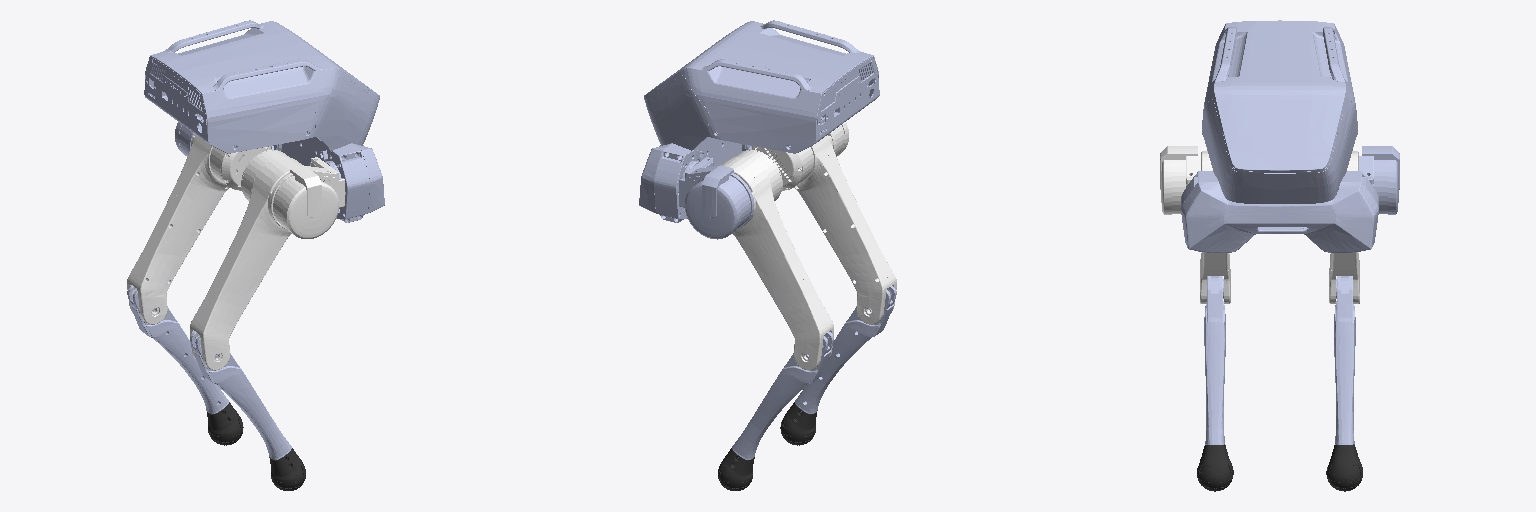
The robot description file, URDF, robot "PF_P441A":
<?xml version="1.0" encoding="utf-8"?>
<robot name="PF_P441A">
    <material name="black">
        <color rgba="0.0 0.0 0.0 1.0"/>
    </material>
    <material name="blue">
        <color rgba="0.0 0.0 0.8 1.0"/>
    </material>
    <material name="green">
        <color rgba="0.0 0.8 0.0 1.0"/>
    </material>
    <material name="grey">
        <color rgba="0.2 0.2 0.2 1.0"/>
    </material>
    <material name="silver">
        <color rgba="0.9137254901960784 0.9137254901960784 0.8470588235294118 1.0"/>
    </material>
    <material name="orange">
        <color rgba="1.0 0.4235294117647059 0.0392156862745098 1.0"/>
    </material>
    <material name="brown">
        <color rgba="0.8705882352941177 0.8117647058823529 0.7647058823529411 1.0"/>
    </material>
    <material name="red">
        <color rgba="0.8 0.0 0.0 1.0"/>
    </material>
    <material name="white">
        <color rgba="1.0 1.0 1.0 1.0"/>
    </material>
    <!-- ros_control plugin -->
    <gazebo>
        <plugin filename="libpointfoot_hw_sim.so" name="gazebo_ros_control">
            <robotNamespace>/</robotNamespace>
            <robotParam>robot_description</robotParam>
            <robotSimType>pointfoot_gazebo/PointFootHWSim</robotSimType>
        </plugin>
    </gazebo>
    <gazebo>
        <plugin filename="libgazebo_ros_p3d.so" name="p3d_base_controller">
            <alwaysOn>true</alwaysOn>
            <updateRate>1000.0</updateRate>
            <bodyName>base_Link</bodyName>
            <topicName>ground_truth/state</topicName>
            <gaussianNoise>0</gaussianNoise>
            <frameName>world</frameName>
            <xyzOffsets>0 0 0</xyzOffsets>
            <rpyOffsets>0 0 0</rpyOffsets>
        </plugin>
    </gazebo>
    <link
            name="base_Link">
        <inertial>
            <origin rpy="0 0 0" xyz="-0.011761 0.000977 -0.015342"/>
            <mass value="8.557"/>
            <inertia ixx="0.119293" ixy="0.000807" ixz="0.040299"
                     iyy="0.125912" iyz="-0.000664" izz="0.126021"/>
        </inertial>
        <visual>
            <origin
                    xyz="0 0 0"
                    rpy="0 0 0"/>
            <geometry>
                <mesh
                        filename="../meshes/base_Link.STL"/>
            </geometry>
            <material
                    name="">
                <color
                        rgba="0.79216 0.81961 0.93333 1"/>
            </material>
        </visual>
        <collision>
            <origin xyz="-0.04 0 0.06969" rpy="0 0 0"/>
            <geometry>
                <box size="0.37 0.26 0.14"/>
            </geometry>
        </collision>
    </link>
    <joint name="limx_imu_joint" type="fixed">
        <origin rpy="0. 0. 0." xyz="0. 0. 0."/>
        <parent link="base_Link"/>
        <child link="limx_imu"/>
    </joint>
    <!-- Imu link -->
    <link name="limx_imu">
        <inertial>
            <mass value="0.01"/>
            <origin rpy="0 0 0" xyz="0 0 0"/>
            <inertia ixx="0.000001" ixy="0" ixz="0" iyy="0.000001" iyz="0" izz="0.000001"/>
        </inertial>
        <visual>
            <origin rpy="0 0 0" xyz="0 0 0"/>
            <geometry>
                <box size="0.015 0.015 0.004"/>
            </geometry>
        </visual>
        <material name="orange">
            <color rgba="255 108 10 255"/>
        </material>
    </link>
    <gazebo reference="limx_imu">
        <material>Gazebo/Orange</material>
    </gazebo>
    <gazebo reference="limx_imu_joint">
        <disableFixedJointLumping>true</disableFixedJointLumping>
    </gazebo>
    <link
            name="abad_L_Link">
        <inertial>
            <origin rpy="0 0 0" xyz="-0.067632 0.045448 0.000968"/>
            <mass value="1.614"/>
            <inertia ixx="0.001794" ixy="0.000451" ixz="-0.000013"
                     iyy="0.002726" iyz="-0.000018" izz="0.002429"/>
        </inertial>
        <visual>
            <origin
                    xyz="0 0 0"
                    rpy="0 0 0"/>
            <geometry>
                <mesh
                        filename="../meshes/abad_L_Link.STL"/>
            </geometry>
            <material
                    name="">
                <color
                        rgba="0.79216 0.81961 0.93333 1"/>
            </material>
        </visual>
        <collision>
            <origin xyz="-0.08 0 0" rpy="1.57 0 0"/>
            <geometry>
                <cylinder length="0.05" radius="0.05"/>
            </geometry>
        </collision>
    </link>
    <joint
            name="abad_L_Joint"
            type="revolute">
        <origin
                xyz="0.01241 0.10494 -0.09876"
                rpy="0 0 0"/>
        <parent
                link="base_Link"/>
        <child
                link="abad_L_Link"/>
        <axis
                xyz="1 0 0"/>
        <limit effort="80.0" lower="-0.38397" upper="1.39626" velocity="20.0"/>
    </joint>
    <link
            name="hip_L_Link">
        <inertial>
            <origin rpy="0 0 0" xyz="-0.030719 -0.045451 -0.043281"/>
            <mass value="2.435"/>
            <inertia ixx="0.019181" ixy="0.001896" ixz="-0.010456"
                     iyy="0.025710" iyz="0.002668" izz="0.010329"/>
        </inertial>
        <visual>
            <origin
                    xyz="0 0 0"
                    rpy="0 0 0"/>
            <geometry>
                <mesh
                        filename="../meshes/hip_L_Link.STL"/>
            </geometry>
            <material
                    name="">
                <color
                        rgba="1 1 1 1"/>
            </material>
        </visual>
        <collision>
            <origin xyz="-0.10 -0.03 -0.14" rpy="0 0.53 0"/>
            <geometry>
                <cylinder length="0.15" radius="0.035"/>
            </geometry>
        </collision>
    </link>
    <joint
            name="hip_L_Joint"
            type="revolute">
        <origin
                xyz="-0.07696 0.02066 0"
                rpy="0 0 0"/>
        <parent
                link="abad_L_Link"/>
        <child
                link="hip_L_Link"/>
        <axis
                xyz="0 1 0"/>
        <limit effort="80.0" lower="-1.012291" upper="1.518436" velocity="20.0"/>
    </joint>
    <link
            name="knee_L_Link">
        <inertial>
            <origin rpy="0 0 0" xyz="0.048005 -0.000016 -0.076168"/>
            <mass value="0.573"/>
            <inertia ixx="0.003310" ixy="-0.000001" ixz="0.002067"
                     iyy="0.004693" iyz="0.000001" izz="0.001484"/>
        </inertial>
        <visual>
            <origin
                    xyz="0 0 0"
                    rpy="0 0 0"/>
            <geometry>
                <mesh
                        filename="../meshes/knee_L_Link.STL"/>
            </geometry>
            <material
                    name="">
                <color
                        rgba="0.79216 0.81961 0.93333 1"/>
            </material>
        </visual>
        <collision>
            <origin xyz="0.078 0 -0.12" rpy="0 -0.55 0"/>
            <geometry>
                <cylinder length="0.26" radius="0.015"/>
            </geometry>
        </collision>
    </link>
    <joint
            name="knee_L_Joint"
            type="revolute">
        <origin
                xyz="-0.15004 -0.02018 -0.25981"
                rpy="0 0 0"/>
        <parent
                link="hip_L_Link"/>
        <child
                link="knee_L_Link"/>
        <axis
                xyz="0 -1 0"/>
        <limit effort="80" lower="-0.872665" upper="1.396263" velocity="20"/>
    </joint>
    <link
            name="foot_L_Link">
        <inertial>
            <origin rpy="0 0 0" xyz="-0.001786 0.000059 0.007911"/>
            <mass value="0.157"/>
            <inertia ixx="0.000081" ixy="0" ixz="0.000006"
                     iyy="0.000083" iyz="0" izz="0.000061"/>
        </inertial>
        <visual>
            <origin
                    xyz="0 0 0"
                    rpy="0 0 0"/>
            <geometry>
                <mesh
                        filename="../meshes/foot_L_Link.STL"/>
            </geometry>
            <material
                    name="">
                <color
                        rgba="0.26667 0.26667 0.26667 1"/>
            </material>
        </visual>
        <collision>
            <origin rpy="0 0 0" xyz="0 0 -0.0"/>
            <geometry>
                <sphere radius="0.03"/>
            </geometry>
        </collision>
    </link>
    <joint
            name="foot_L_Joint"
            type="fixed"
            dont_collapse="true">
        <origin
                xyz="0.15 0 -0.25981"
                rpy="0 0 0"/>
        <parent
                link="knee_L_Link"/>
        <child
                link="foot_L_Link"/>
        <axis
                xyz="0 0 0"/>
    </joint>

    <link name="contact_L_Link">
        <inertial>
            <origin xyz="-6.4629E-05 5.464E-05 0.0011936" rpy="0 0 0"/>
            <mass value="1e-6"/>
            <inertia ixx="1e-12" ixy="0" ixz="0" iyy="1e-12" iyz="0" izz="1e-12"/>
        </inertial>
    </link>
    <joint name="contact_L_Joint" type="fixed">
        <origin xyz="0 0 -0.03" rpy="0 0 0"/>
        <parent link="foot_L_Link"/>
        <child link="contact_L_Link"/>
        <axis xyz="0 1 0"/>
        <limit lower="-0" upper="0" effort="60" velocity="50"/>
    </joint>
    <gazebo reference="foot_L_Joint">
        <disableFixedJointLumping>true</disableFixedJointLumping>
    </gazebo>
    <gazebo reference="hip_L_Link">
        <mu1>0.2</mu1>
        <mu2>0.2</mu2>
        <material>Gazebo/DarkGrey</material>
    </gazebo>
    <gazebo reference="knee_L_Link">
        <mu1>0.2</mu1>
        <mu2>0.2</mu2>
        <self_collide>0</self_collide>
        <material>Gazebo/DarkGrey</material>
        <kp value="1000000.0"/>
        <kd value="100.0"/>
    </gazebo>
    <gazebo reference="foot_L_Link">
        <mu1>2.0</mu1>
        <mu2>2.0</mu2>
        <self_collide>1</self_collide>
        <material>Gazebo/DarkGrey</material>
        <kp value="1000000.0"/>
        <kd value="100.0"/>
    </gazebo>
    <transmission name="abad_L_Joint_tran">
        <type>transmission_interface/SimpleTransmission</type>
        <joint name="abad_L_Joint">
            <hardwareInterface>hardware_interface/EffortJointInterface</hardwareInterface>
        </joint>
        <actuator name="abad_L_Joint_motor">
            <hardwareInterface>hardware_interface/EffortJointInterface</hardwareInterface>
            <mechanicalReduction>1</mechanicalReduction>
        </actuator>
    </transmission>
    <transmission name="hip_L_Joint_tran">
        <type>transmission_interface/SimpleTransmission</type>
        <joint name="hip_L_Joint">
            <hardwareInterface>hardware_interface/EffortJointInterface</hardwareInterface>
        </joint>
        <actuator name="hip_L_Joint_motor">
            <hardwareInterface>hardware_interface/EffortJointInterface</hardwareInterface>
            <mechanicalReduction>1</mechanicalReduction>
        </actuator>
    </transmission>
    <transmission name="knee_L_Joint_tran">
        <type>transmission_interface/SimpleTransmission</type>
        <joint name="knee_L_Joint">
            <hardwareInterface>hardware_interface/EffortJointInterface</hardwareInterface>
        </joint>
        <actuator name="knee_L_Joint_motor">
            <hardwareInterface>hardware_interface/EffortJointInterface</hardwareInterface>
            <mechanicalReduction>1</mechanicalReduction>
        </actuator>
    </transmission>
    
    <link
            name="abad_R_Link">
        <inertial>
            <origin rpy="0 0 0" xyz="-0.067632 -0.045448 0.000968"/>
            <mass value="1.614"/>
            <inertia ixx="0.001794" ixy="-0.000451" ixz="-0.000013"
                     iyy="0.002726" iyz="0.000018" izz="0.002429"/>
        </inertial>
        <visual>
            <origin
                    xyz="0 0 0"
                    rpy="0 0 0"/>
            <geometry>
                <mesh
                        filename="../meshes/abad_R_Link.STL"/>
            </geometry>
            <material
                    name="">
                <color
                        rgba="1 1 1 1"/>
            </material>
        </visual>
        <collision>
            <origin xyz="-0.08 0 0" rpy="1.57 0 0"/>
            <geometry>
                <cylinder length="0.05" radius="0.05"/>
            </geometry>
        </collision>
    </link>
    <joint
            name="abad_R_Joint"
            type="revolute">
        <origin
                xyz="0.01241 -0.10494 -0.09876"
                rpy="0 0 0"/>
        <parent
                link="base_Link"/>
        <child
                link="abad_R_Link"/>
        <axis
                xyz="1 0 0"/>
        <limit effort="80.0" lower="-1.39626" upper="0.38397" velocity="20.0"/>
    </joint>
    <link
            name="hip_R_Link">
        <inertial>
            <origin rpy="0 0 0" xyz="-0.030719 0.045451 -0.043281"/>
            <mass value="2.435"/>
            <inertia ixx="0.019181" ixy="-0.001896" ixz="-0.010456"
                     iyy="0.025710" iyz="-0.002668" izz="0.010329"/>
        </inertial>
        <visual>
            <origin
                    xyz="0 0 0"
                    rpy="0 0 0"/>
            <geometry>
                <mesh
                        filename="../meshes/hip_R_Link.STL"/>
            </geometry>
            <material
                    name="">
                <color
                        rgba="1 1 1 1"/>
            </material>
        </visual>
        <collision>
            <origin xyz="-0.10 0.03 -0.14" rpy="0 0.53 0"/>
            <geometry>
                <cylinder length="0.15" radius="0.035"/>
            </geometry>
        </collision>
    </link>
    <joint
            name="hip_R_Joint"
            type="revolute">
        <origin
                xyz="-0.07696 -0.02066 0"
                rpy="0 0 0"/>
        <parent
                link="abad_R_Link"/>
        <child
                link="hip_R_Link"/>
        <axis
                xyz="0 -1 0"/>
        <limit effort="80.0" lower="-1.518436" upper="1.012291" velocity="20.0"/>
    </joint>
    <link
            name="knee_R_Link">
        <inertial>
            <origin rpy="0 0 0" xyz="0.048005 0.000016 -0.076168"/>
            <mass value="0.573"/>
            <inertia ixx="0.003310" ixy="0.000001" ixz="0.002067"
                     iyy="0.004693" iyz="-0.000001" izz="0.001484"/>
        </inertial>
        <visual>
            <origin
                    xyz="0 0 0"
                    rpy="0 0 0"/>
            <geometry>
                <mesh
                        filename="../meshes/knee_R_Link.STL"/>
            </geometry>
            <material
                    name="">
                <color
                        rgba="0.79216 0.81961 0.93333 1"/>
            </material>
        </visual>
        <collision>
            <origin xyz="0.078 0 -0.12" rpy="0 -0.55 0"/>
            <geometry>
                <cylinder length="0.26" radius="0.015"/>
            </geometry>
        </collision>
    </link>
    <joint
            name="knee_R_Joint"
            type="revolute">
        <origin
                xyz="-0.15004 0.02018 -0.25981"
                rpy="0 0 0"/>
        <parent
                link="hip_R_Link"/>
        <child
                link="knee_R_Link"/>
        <axis
                xyz="0 1 0"/>
        <limit effort="80" lower="-1.396263" upper="0.872665" velocity="50"/>
    </joint>
    <link
            name="foot_R_Link">
        <inertial>
            <origin rpy="0 0 0" xyz="-0.001786 -0.000059 0.007911"/>
            <mass value="0.157"/>
            <inertia ixx="0.000081" ixy="0" ixz="0.000006"
                     iyy="0.000083" iyz="0" izz="0.000061"/>
        </inertial>
        <visual>
            <origin
                    xyz="0 0 0"
                    rpy="0 0 0"/>
            <geometry>
                <mesh
                        filename="../meshes/foot_R_Link.STL"/>
            </geometry>
            <material
                    name="">
                <color
                        rgba="0.26667 0.26667 0.26667 1"/>
            </material>
        </visual>
        <collision>
            <origin rpy="0 0 0" xyz="0 0 -0.0"/>
            <geometry>
                <sphere radius="0.03"/>
            </geometry>
        </collision>
    </link>
    <joint
            name="foot_R_Joint"
            type="fixed"
            dont_collapse="true">
        <origin
                xyz="0.15 0 -0.25981"
                rpy="0 0 0"/>
        <parent
                link="knee_R_Link"/>
        <child
                link="foot_R_Link"/>
        <axis
                xyz="0 0 0"/>
    </joint>

    <link name="contact_R_Link">
        <inertial>
            <origin xyz="-6.4629E-05 5.464E-05 0.0011936" rpy="0 0 0"/>
            <mass value="1e-6"/>
            <inertia ixx="1e-12" ixy="0" ixz="0" iyy="1e-12" iyz="0" izz="1e-12"/>
        </inertial>
    </link>
    <joint name="contact_R_Joint" type="fixed">
        <origin xyz="0 0 -0.03" rpy="0 0 0"/>
        <parent link="foot_R_Link"/>
        <child link="contact_R_Link"/>
        <axis xyz="0 1 0"/>
        <limit lower="-0" upper="0" effort="60" velocity="50"/>
    </joint>
    <gazebo reference="foot_R_Joint">
        <disableFixedJointLumping>true</disableFixedJointLumping>
    </gazebo>
    <gazebo reference="hip_R_Link">
        <mu1>0.2</mu1>
        <mu2>0.2</mu2>
        <material>Gazebo/DarkGrey</material>
    </gazebo>
    <gazebo reference="knee_R_Link">
        <mu1>0.2</mu1>
        <mu2>0.2</mu2>
        <self_collide>0</self_collide>
        <material>Gazebo/DarkGrey</material>
        <kp value="1000000.0"/>
        <kd value="100.0"/>
    </gazebo>
    <gazebo reference="foot_R_Link">
        <mu1>2.0</mu1>
        <mu2>2.0</mu2>
        <self_collide>1</self_collide>
        <material>Gazebo/DarkGrey</material>
        <kp value="1000000.0"/>
        <kd value="100.0"/>
    </gazebo>
    <transmission name="abad_R_Joint_tran">
        <type>transmission_interface/SimpleTransmission</type>
        <joint name="abad_R_Joint">
            <hardwareInterface>hardware_interface/EffortJointInterface</hardwareInterface>
        </joint>
        <actuator name="abad_R_Joint_motor">
            <hardwareInterface>hardware_interface/EffortJointInterface</hardwareInterface>
            <mechanicalReduction>1</mechanicalReduction>
        </actuator>
    </transmission>
    <transmission name="hip_R_Joint_tran">
        <type>transmission_interface/SimpleTransmission</type>
        <joint name="hip_R_Joint">
            <hardwareInterface>hardware_interface/EffortJointInterface</hardwareInterface>
        </joint>
        <actuator name="hip_R_Joint_motor">
            <hardwareInterface>hardware_interface/EffortJointInterface</hardwareInterface>
            <mechanicalReduction>1</mechanicalReduction>
        </actuator>
    </transmission>
    <transmission name="knee_R_Joint_tran">
        <type>transmission_interface/SimpleTransmission</type>
        <joint name="knee_R_Joint">
            <hardwareInterface>hardware_interface/EffortJointInterface</hardwareInterface>
        </joint>
        <actuator name="knee_R_Joint_motor">
            <hardwareInterface>hardware_interface/EffortJointInterface</hardwareInterface>
            <mechanicalReduction>1</mechanicalReduction>
        </actuator>
    </transmission>
</robot>

--- Facts derived from the render (not from the file) ---
The picture shows the robot from 3 angles, left to right: view 1: azimuth 30°, elevation 25°; view 2: azimuth 150°, elevation 25°; view 3: azimuth 270°, elevation 25°; orthographic projection.
Robot: PF_P441A — 12 links, 11 joints (6 revolute, 5 fixed); root link base_Link; default pose: every joint at zero.
Links seen in each view (by area): view 1: base_Link, hip_R_Link, hip_L_Link, abad_R_Link, knee_R_Link, knee_L_Link, foot_L_Link, foot_R_Link; view 2: base_Link, hip_L_Link, hip_R_Link, abad_L_Link, knee_L_Link, knee_R_Link, foot_R_Link, foot_L_Link; view 3: base_Link, knee_R_Link, knee_L_Link, abad_L_Link, abad_R_Link, foot_R_Link, foot_L_Link, hip_L_Link, hip_R_Link.
Link boxes in pixels (x1=…): base_Link: x1=144, y1=20, x2=384, y2=222; hip_R_Link: x1=190, y1=150, x2=302, y2=370; hip_L_Link: x1=127, y1=135, x2=271, y2=324; abad_R_Link: x1=270, y1=157, x2=344, y2=238; knee_R_Link: x1=190, y1=331, x2=291, y2=459; knee_L_Link: x1=127, y1=285, x2=228, y2=413; foot_L_Link: x1=207, y1=402, x2=243, y2=445; foot_R_Link: x1=269, y1=448, x2=305, y2=490; base_Link: x1=639, y1=20, x2=879, y2=222; hip_L_Link: x1=721, y1=150, x2=833, y2=370; hip_R_Link: x1=752, y1=135, x2=896, y2=324; abad_L_Link: x1=679, y1=157, x2=753, y2=239; knee_L_Link: x1=732, y1=331, x2=833, y2=459; knee_R_Link: x1=795, y1=285, x2=896, y2=413; foot_R_Link: x1=780, y1=402, x2=817, y2=445; foot_L_Link: x1=718, y1=448, x2=754, y2=490; base_Link: x1=1181, y1=20, x2=1378, y2=252; knee_R_Link: x1=1204, y1=276, x2=1225, y2=444; knee_L_Link: x1=1334, y1=276, x2=1355, y2=444; abad_L_Link: x1=1359, y1=146, x2=1399, y2=214; abad_R_Link: x1=1160, y1=146, x2=1200, y2=214; foot_R_Link: x1=1197, y1=445, x2=1233, y2=491; foot_L_Link: x1=1326, y1=445, x2=1362, y2=491; hip_L_Link: x1=1329, y1=151, x2=1359, y2=303; hip_R_Link: x1=1200, y1=151, x2=1230, y2=303.
Bounding box of the posed robot: 0.3854 × 0.3895 × 0.7807 m (x, y, z).
9 mesh visuals loaded from 9 distinct referenced files (9 binary STL).